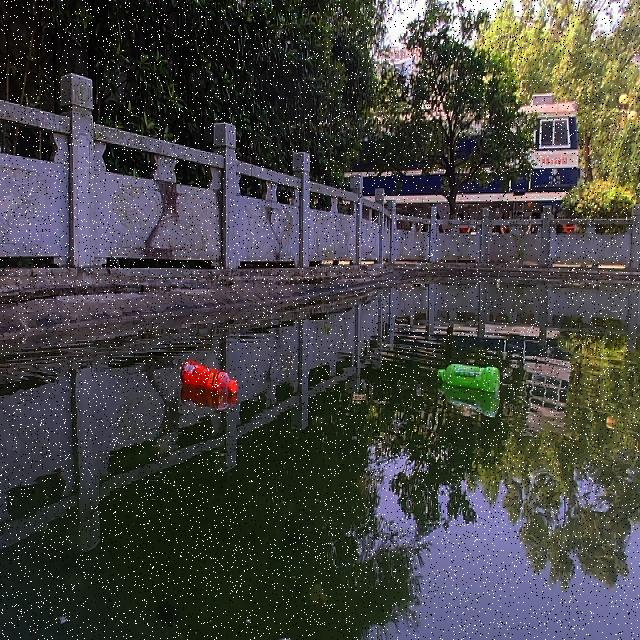bottle: (175, 356, 239, 397), (436, 360, 502, 393)
